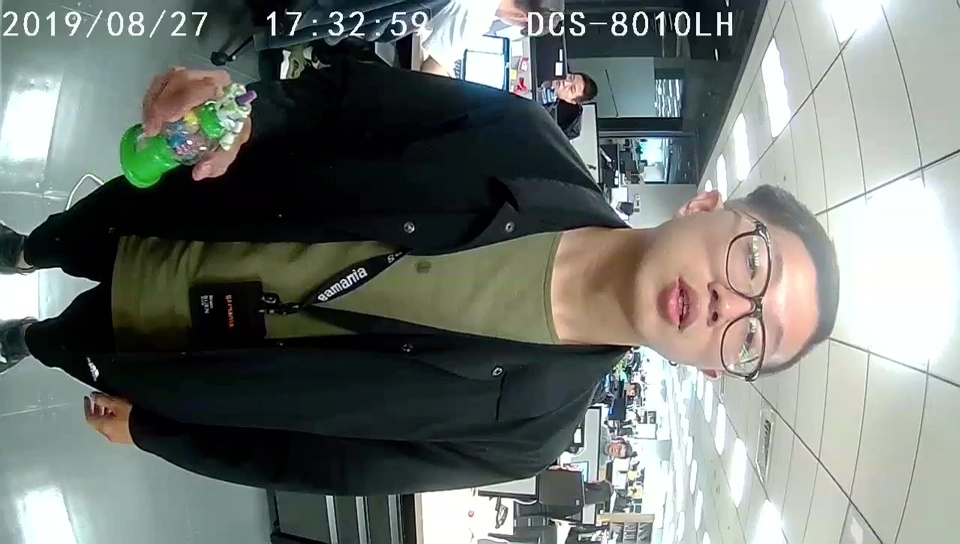buzz: (118, 80, 254, 189)
